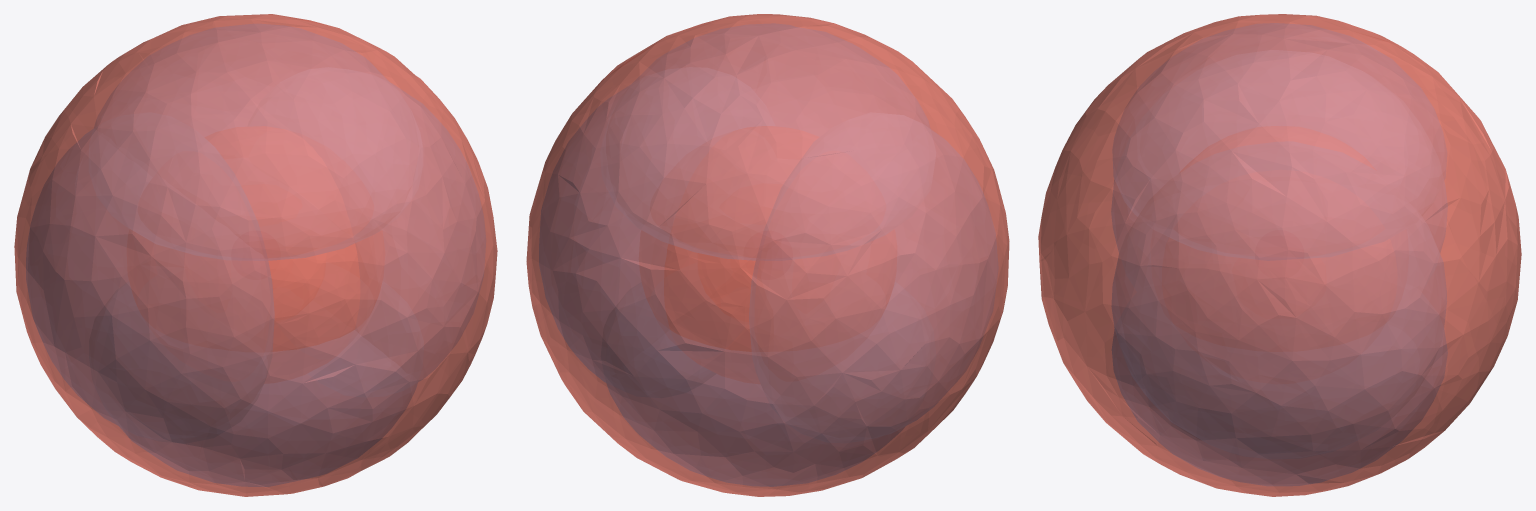
Rendered from orbital.glb.
3 views of the same model, side by side, from view 1: azimuth 30°, elevation 25°; view 2: azimuth 150°, elevation 25°; view 3: azimuth 270°, elevation 25° (orthographic).
Parts seen in each view (by area): view 1: C_n2_s_ml0_node, C_n2_p_ml1_node, C_n2_p_ml-1_node, C_n1_s_ml0_node; view 2: C_n2_s_ml0_node, C_n2_p_ml1_node, C_n2_p_ml-1_node, C_n1_s_ml0_node; view 3: C_n2_s_ml0_node, C_n2_p_ml1_node, C_n2_p_ml-1_node.
Boxes of the visible parts, <box> form: C_n2_s_ml0_node: <box>14,14,497,496</box>; C_n2_p_ml1_node: <box>26,84,485,440</box>; C_n2_p_ml-1_node: <box>94,24,418,486</box>; C_n1_s_ml0_node: <box>269,244,359,351</box>; C_n2_s_ml0_node: <box>526,14,1009,496</box>; C_n2_p_ml1_node: <box>539,86,997,439</box>; C_n2_p_ml-1_node: <box>606,24,929,486</box>; C_n1_s_ml0_node: <box>664,244,755,351</box>; C_n2_s_ml0_node: <box>1038,14,1521,496</box>; C_n2_p_ml1_node: <box>1111,180,1447,458</box>; C_n2_p_ml-1_node: <box>1112,23,1447,485</box>.
Size of the model in its own units: 1.07 by 1.07 by 1.07.
